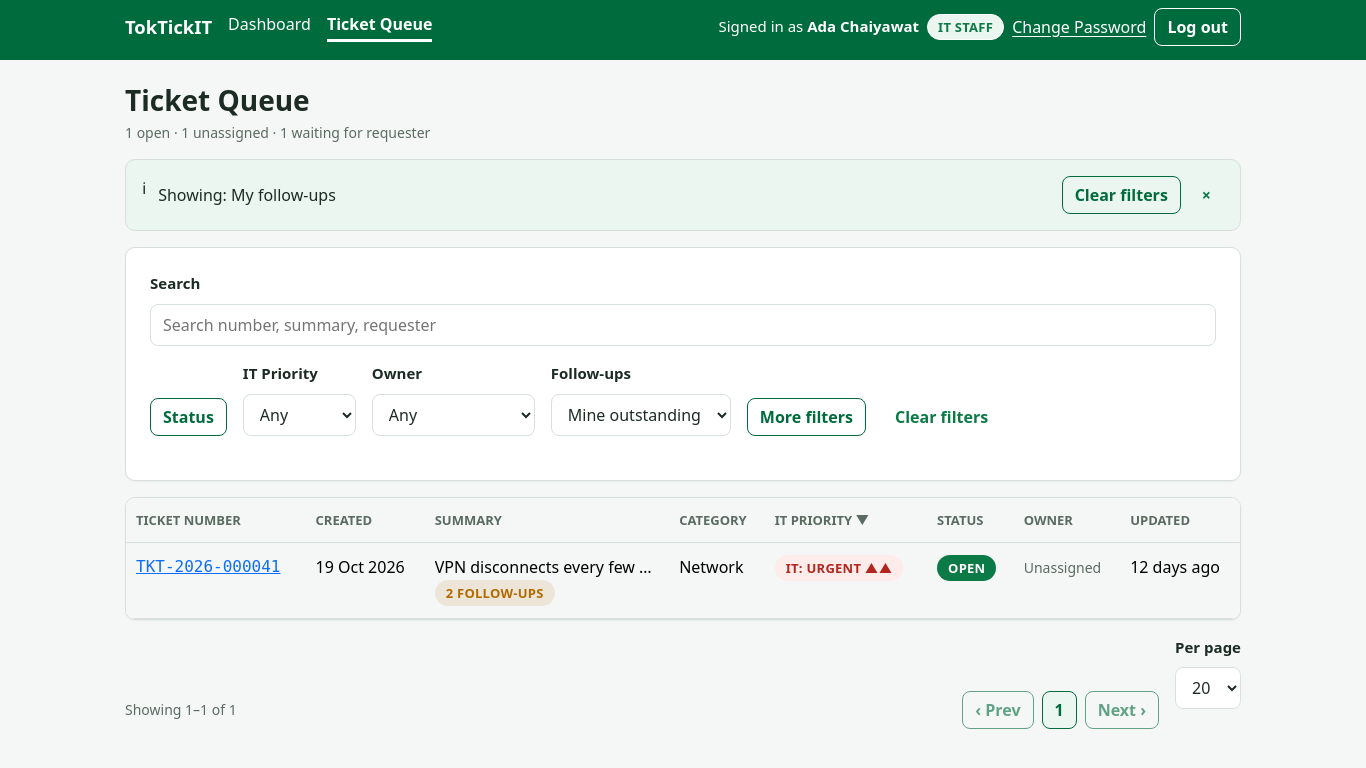
Scenario: UI-30 drill-down destinations open with their filters applied and visible (AC-37, FR-23) › the Showing line can be dismissed and is absent without a dashboard origin
Click the button named "Dismiss". click: (1206, 195)
box: [1189,176,1224,214]
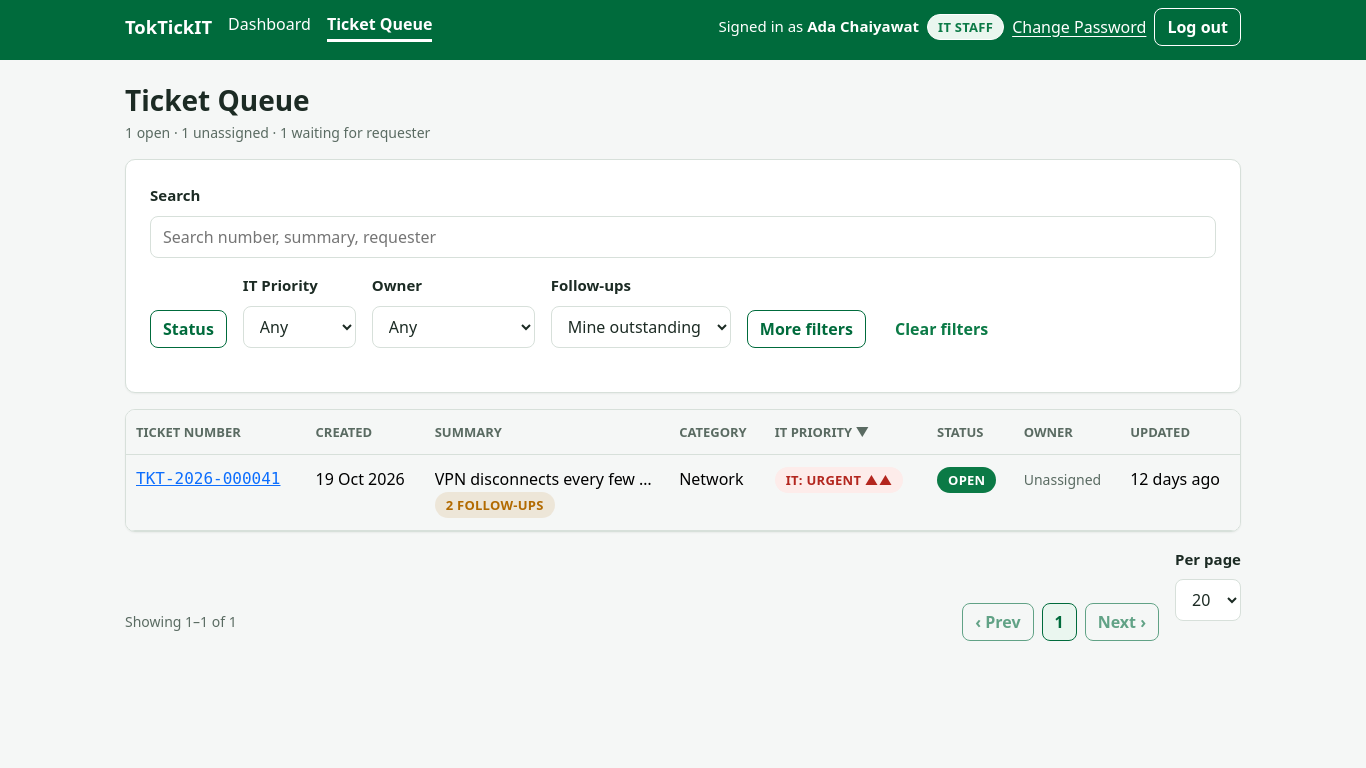
Check: the dropdown labelled "Follow-ups" shows "Mine outstanding", box [551,306,731,348]
Check: the text "Showing: My follow-ups" is gone
